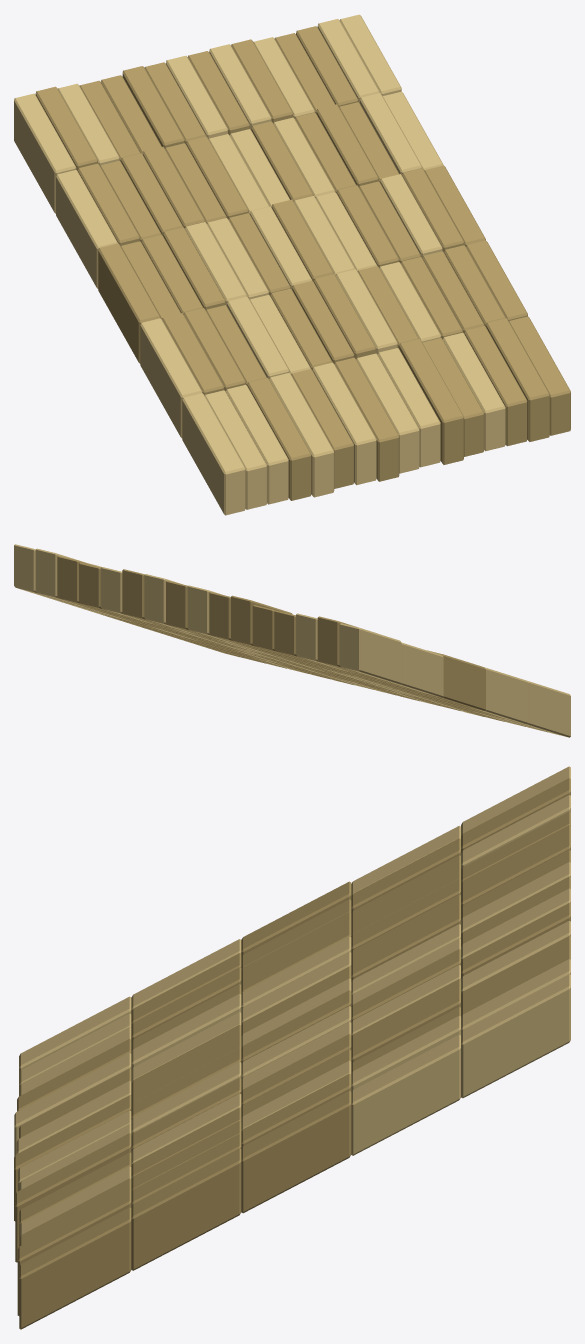
Rendered from SM_Thatch_Roof_30.fbx.
The picture shows the model from 3 angles, top to bottom: view 1: azimuth 30°, elevation 25°; view 2: azimuth 150°, elevation 25°; view 3: azimuth 270°, elevation 25°; orthographic projection. The views are drawn at different scales.
Parts seen in each view (by area): view 1: SM_Thatch_Roof_30; view 2: SM_Thatch_Roof_30; view 3: SM_Thatch_Roof_30.
Boxes of the visible parts, x1,y1,x2,y2 form: SM_Thatch_Roof_30: (14,14,570,515); SM_Thatch_Roof_30: (14,544,570,737); SM_Thatch_Roof_30: (14,766,570,1329).
Bounding box in the file's own units: 2 × 1.47 × 2.13.
